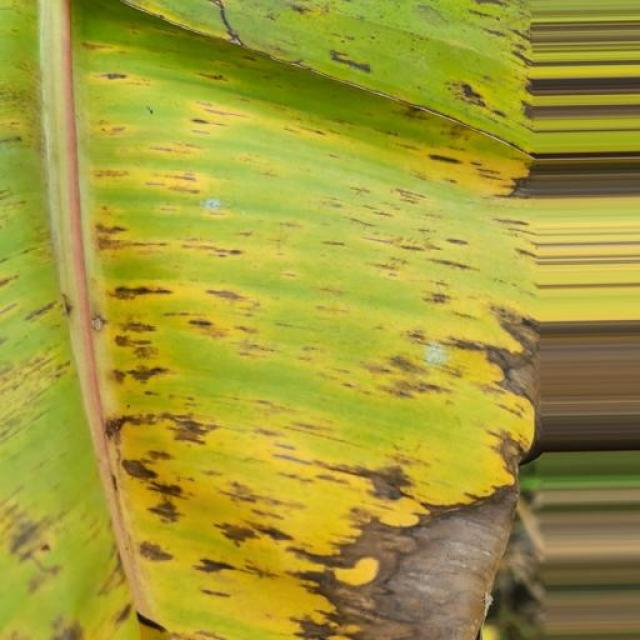Early_rust: (0, 0, 556, 628)
